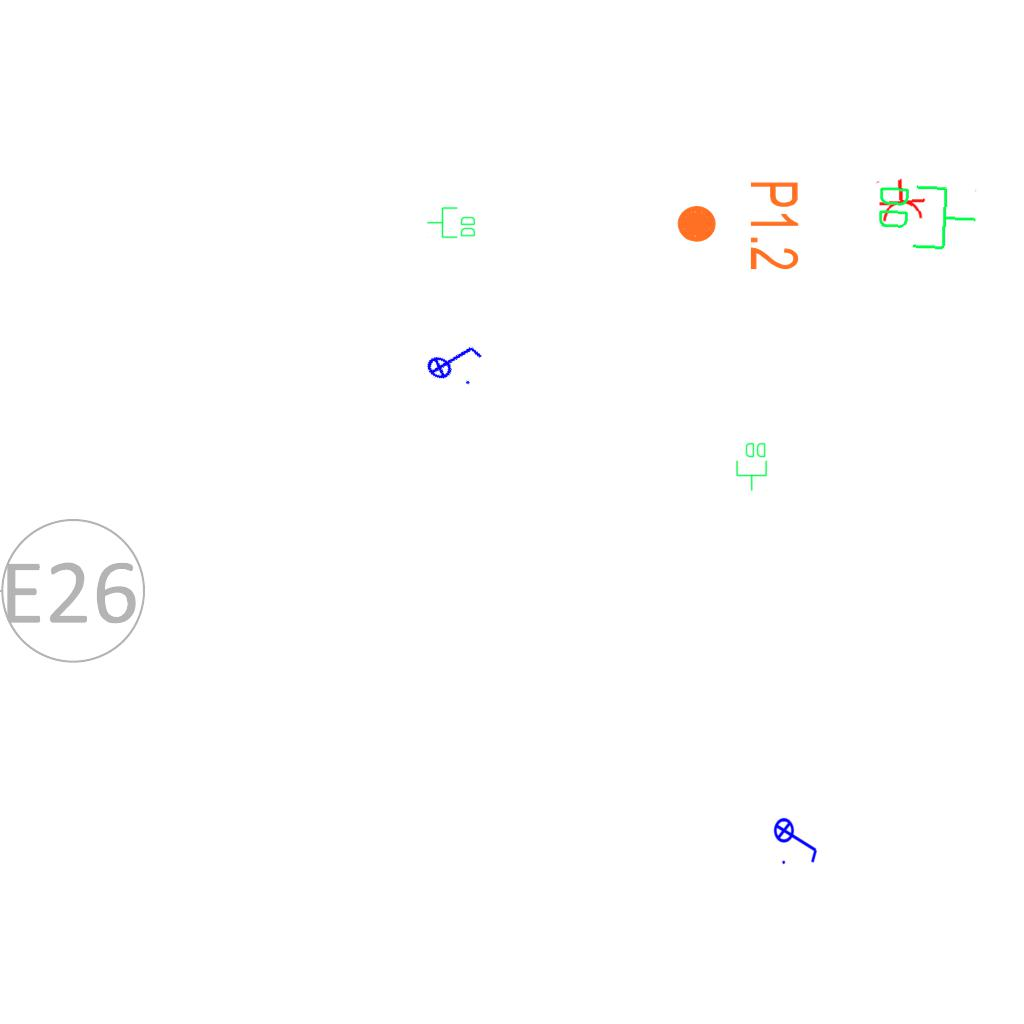Ausschalter_beleuchtet: (417, 325, 489, 395), (773, 811, 821, 867)
Datenanschluss_zweifach: (873, 179, 980, 254), (426, 206, 477, 240), (735, 441, 769, 492)
Downlight_LED_Einbauleuchten_Flur: (674, 179, 802, 272)
Schukosteckdose_einfach: (873, 176, 928, 224)
